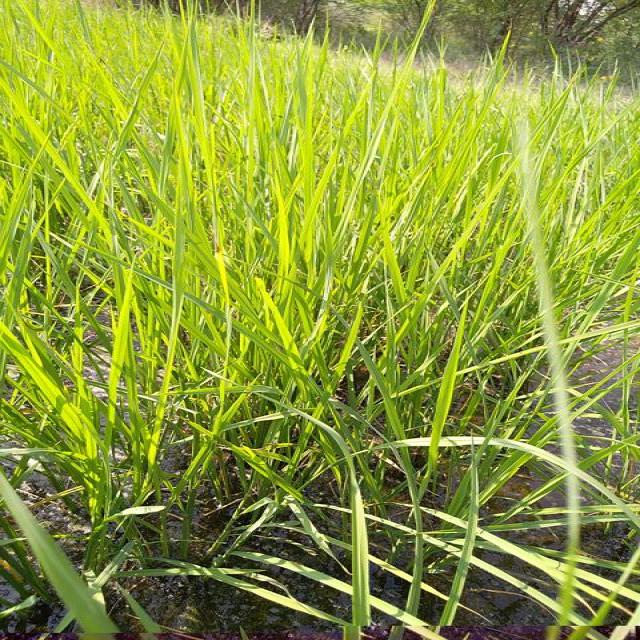Rice: (0, 472, 118, 631), (146, 188, 254, 315), (148, 185, 186, 467), (412, 297, 470, 473), (0, 325, 86, 439), (253, 278, 318, 402), (102, 266, 142, 442), (575, 233, 640, 332), (347, 475, 372, 628), (8, 201, 36, 324), (271, 174, 294, 274), (177, 112, 189, 186)
